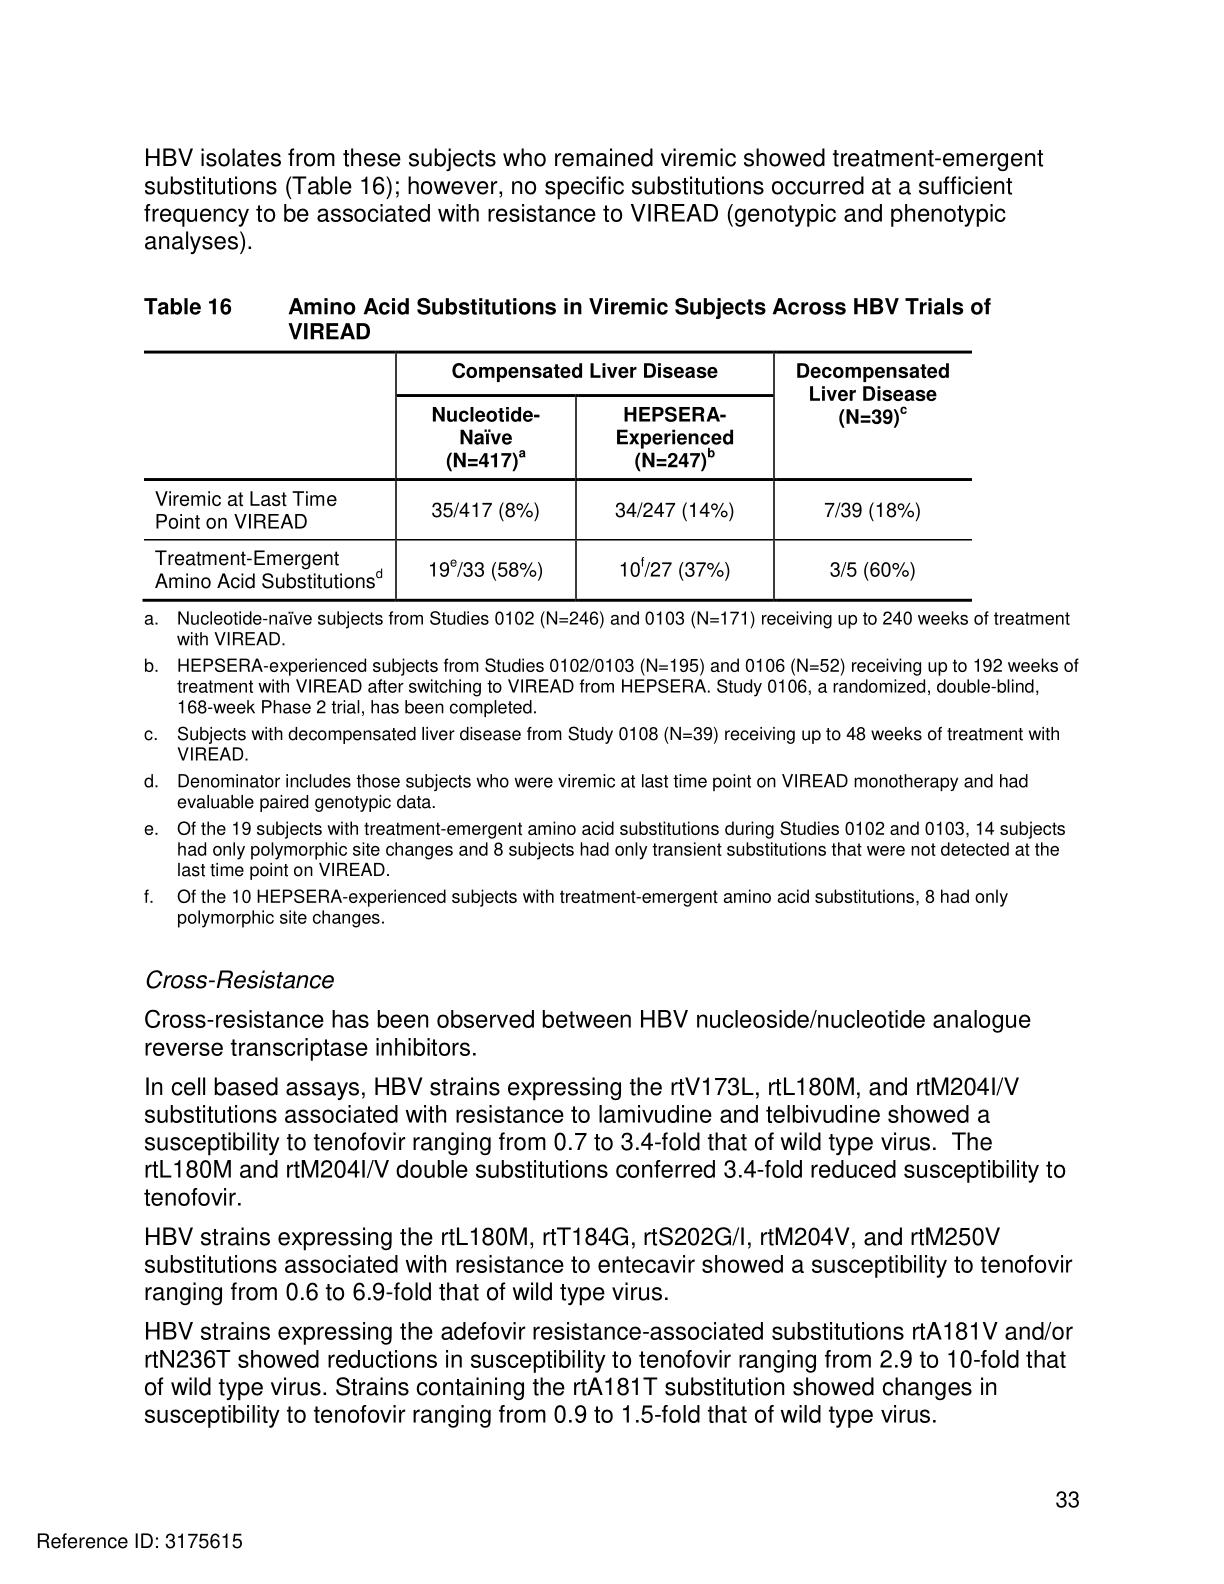partial_lined_merged_cells: (143, 346, 975, 604)
